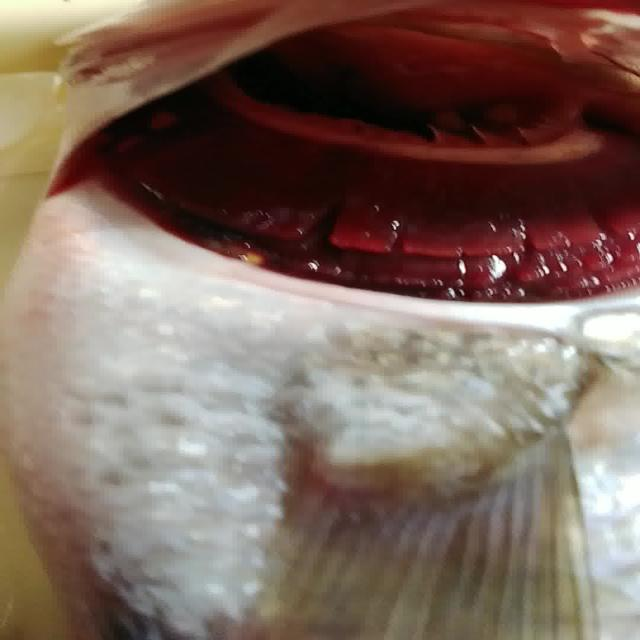Fresh: (132, 33, 640, 328)
